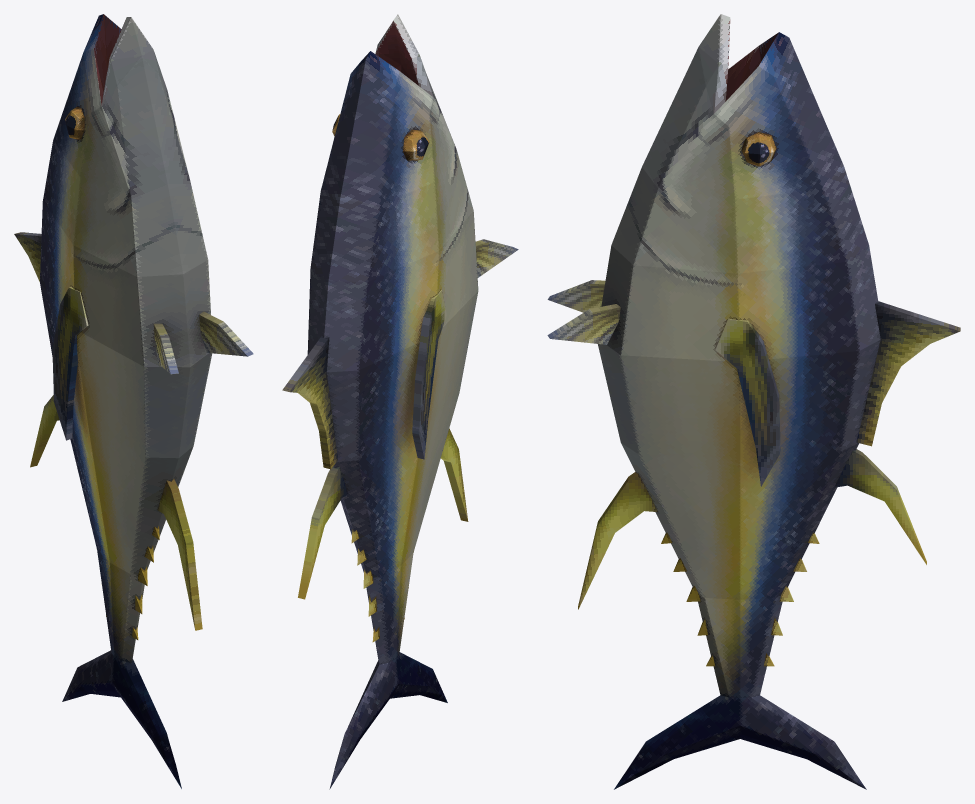
Rendered from item_fish_tuna.glb.
3 renders of one model, left to right at view 1: azimuth 30°, elevation 25°; view 2: azimuth 150°, elevation 25°; view 3: azimuth 270°, elevation 25°, orthographic. The views are drawn at different scales.
Visible parts, largest first — view 1: fish_tuna; view 2: fish_tuna; view 3: fish_tuna.
Boxes of the visible parts, left/top/right/bottom form: fish_tuna: left=14, top=14, right=253, bottom=788; fish_tuna: left=282, top=14, right=518, bottom=789; fish_tuna: left=547, top=14, right=960, bottom=789.
Size of the model in its own units: 0.119 by 0.8095 by 0.3905.
Materials: 1 (1 with a texture image).
